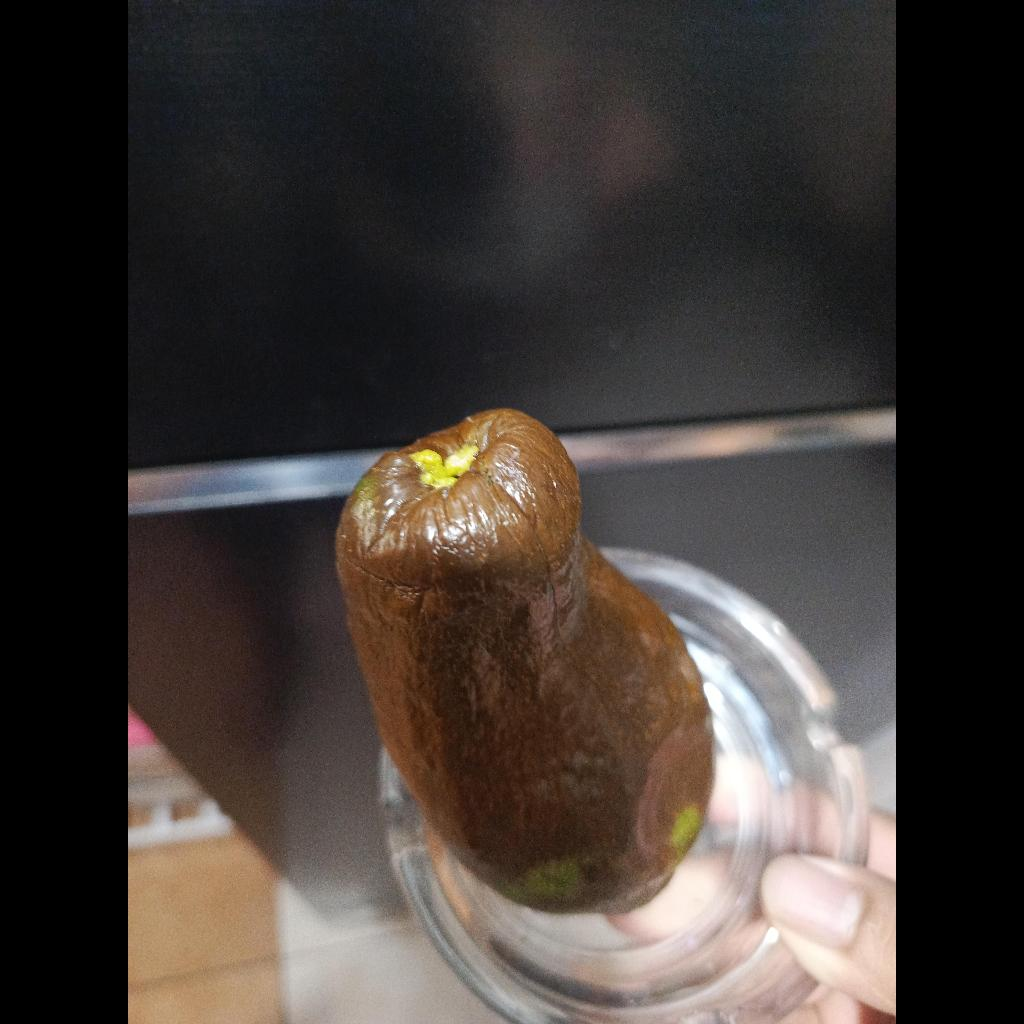stem end rot: (336, 410, 712, 913)
